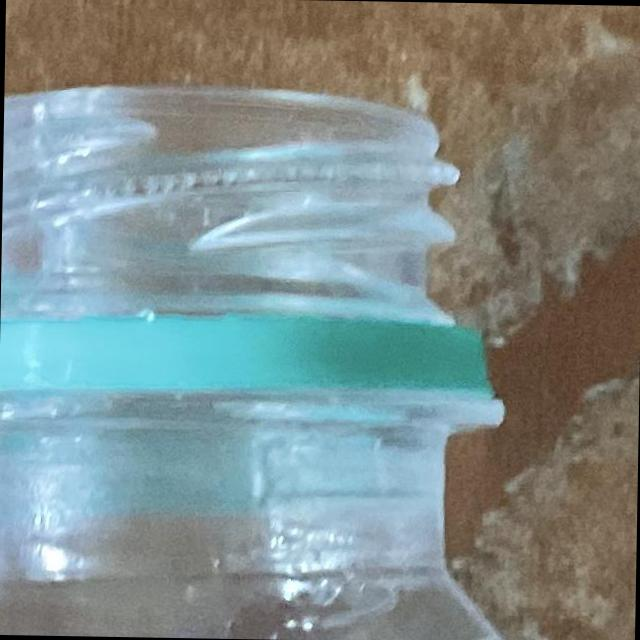open-cap: (0, 61, 502, 452)
